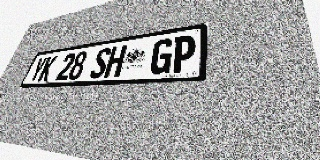2: (55, 52, 77, 81)
8: (67, 51, 89, 80)
G: (149, 37, 174, 75)
H: (103, 45, 127, 78)
K: (37, 55, 58, 82)
P: (170, 34, 196, 74)
S: (88, 47, 112, 79)
Y: (27, 57, 48, 82)
